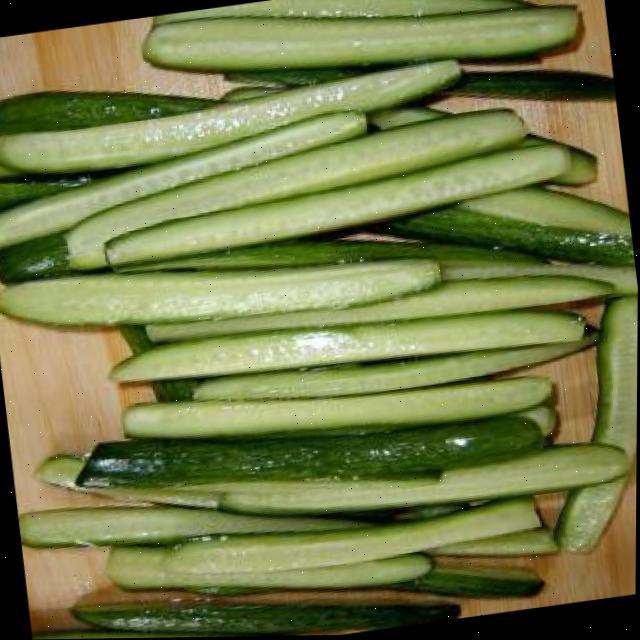Wet: (72, 381, 549, 522)
